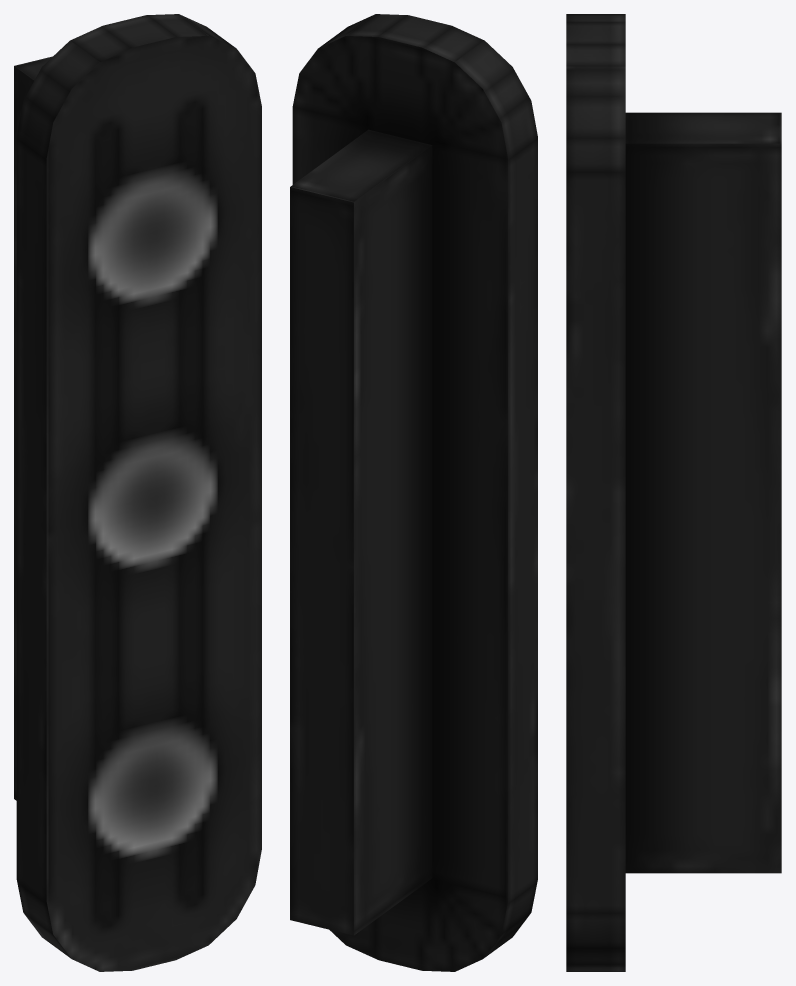
File: Apollo_Subsat_Decoupler.fbx
The picture shows the model from 3 angles, left to right: view 1: azimuth 30°, elevation 25°; view 2: azimuth 150°, elevation 25°; view 3: azimuth 270°, elevation 25°; orthographic projection.
Parts seen in each view (by area): view 1: pCube68; view 2: pCube68; view 3: pCube68.
Part boxes in pixels (x1,y1,x2,y2): pCube68: (14, 14, 261, 971); pCube68: (290, 14, 537, 971); pCube68: (566, 14, 781, 971).
Size of the model in its own units: 0.1404 by 0.5752 by 0.1223.
